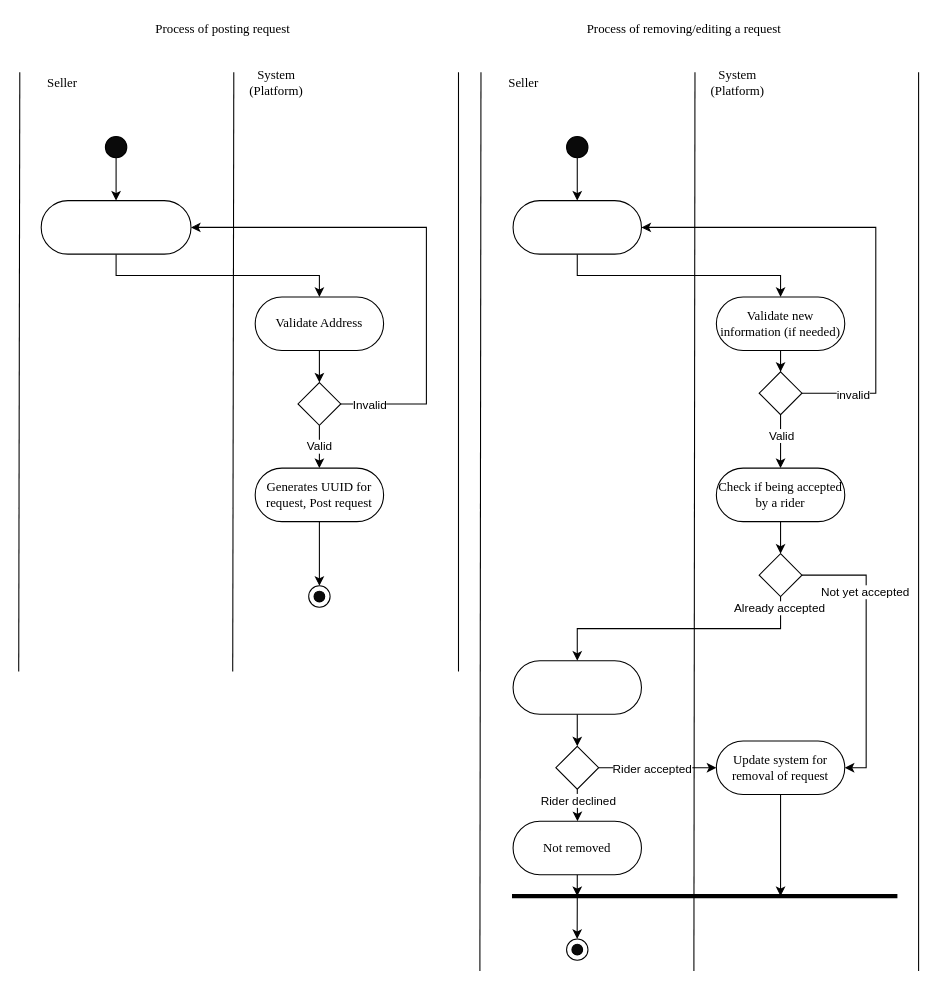
This 938x991 diagram has some shape labels left out. The shapes that lost their labels are listed below. From the top down, each one's box as (x1, y1, x2, y2) in pixels, then its label:
(40, 200, 191, 254): Enter a delivery address (To) and Store (From)
(512, 200, 641, 254): Select a request, input a new information/ select remove request
(512, 660, 641, 714): Contact with rider
